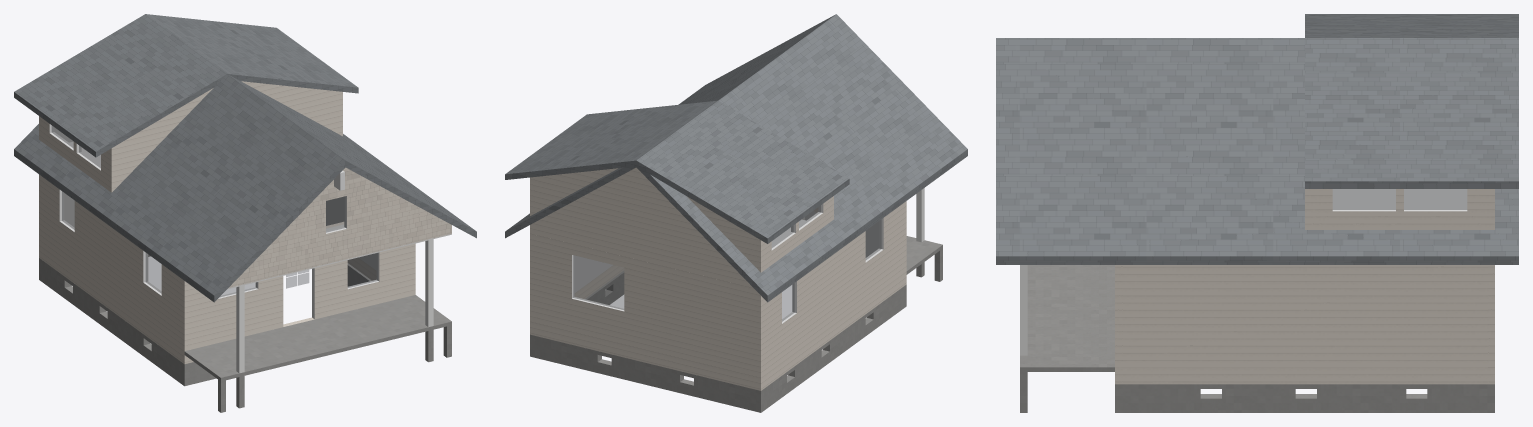
The model's file is barn_cabin_524_lod1.glb.
3 views of the same model, side by side, from view 1: azimuth 30°, elevation 25°; view 2: azimuth 150°, elevation 25°; view 3: azimuth 270°, elevation 25° (orthographic). The views are drawn at different scales.
Visible parts, largest first — view 1: Roof_main, Roof_dormer_W, Gable_S_porch, Wall_S, Wall_W, Porch_slab, Roof_dormer_E, Found_stemwall, Found_rim, Dormer_cheek_W, Dormer_cheek_E, Dormer_face_W (+9 smaller); view 2: Roof_main, Wall_N, Roof_dormer_W, Gable_N, Wall_W, Found_stemwall, Roof_dormer_E, Found_rim, Glazing_W-BED-EGRESS, Dormer_face_W, Porch_slab, Wall_E (+3 smaller); view 3: Roof_main, Wall_E, Roof_dormer_E, Found_stemwall, Porch_slab, Found_rim, Dormer_face_E, Roof_dormer_W, Loft_floor, Glazing_W-LOFT-1_E, Glazing_W-LOFT-2_E, Wall_S (+2 smaller).
Part boxes in pixels (x1,y1,x2,y2): Roof_main: (14,74,476,302); Roof_dormer_W: (14,14,226,157); Gable_S_porch: (229,167,451,287); Wall_S: (181,222,415,351); Wall_W: (41,176,181,348); Porch_slab: (184,295,451,381); Roof_dormer_E: (146,14,358,93); Found_stemwall: (39,254,371,386); Found_rim: (39,245,376,364); Dormer_cheek_W: (109,88,213,192); Dormer_cheek_E: (241,81,342,136); Dormer_face_W: (39,118,109,190); Roof_main: (505,14,967,302); Wall_N: (530,233,763,377); Roof_dormer_W: (636,100,849,243); Gable_N: (530,167,763,287); Wall_W: (764,203,903,375); Found_stemwall: (530,271,906,412); Roof_dormer_E: (505,100,717,179); Found_rim: (530,265,906,390); Glazing_W-BED-EGRESS: (573,255,623,309); Dormer_face_W: (756,196,833,271); Porch_slab: (802,217,942,274); Wall_E: (574,255,612,292); Roof_main: (996,38,1518,264); Wall_E: (1122,265,1487,367); Roof_dormer_E: (1305,38,1518,188); Found_stemwall: (1115,384,1494,412); Porch_slab: (1020,265,1114,371); Found_rim: (1115,367,1494,384); Dormer_face_E: (1305,189,1494,229); Roof_dormer_W: (1305,14,1518,37); Loft_floor: (1332,189,1467,208); Glazing_W-LOFT-1_E: (1404,189,1466,209); Glazing_W-LOFT-2_E: (1333,189,1395,209); Wall_S: (1115,265,1122,367).
Size of the model in its own units: 7.62 by 6.4 by 10.06.
Materials: 9 (4 with a texture image).
